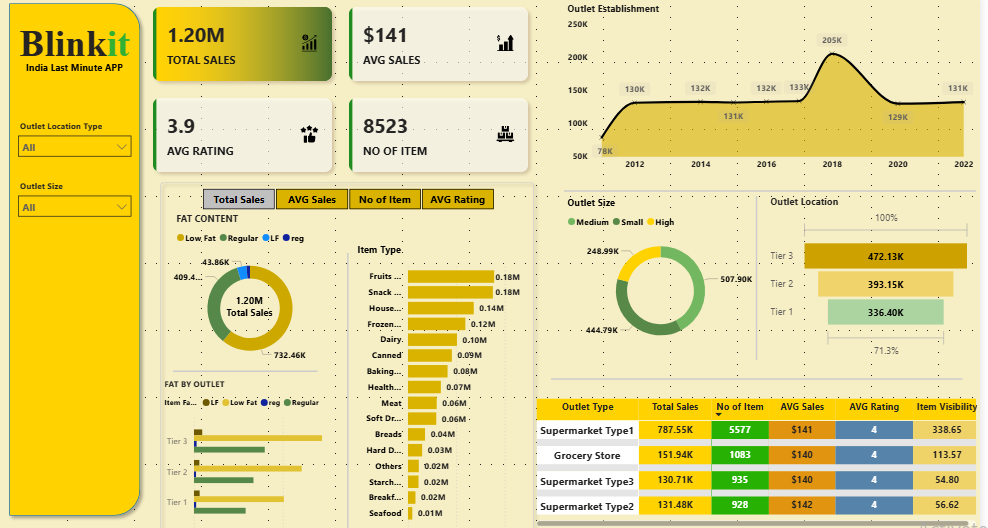

The dashboard page shown, as its layout file describes it:
{"tool":"powerbi","page":{"name":"Page 1","canvas":[1400,800],"ordinal":0},"visuals":[{"type":"shape","box":[3.8,2.8,205,750],"z":0},{"type":"textbox","box":[15.4,32.8,181.7,75],"z":2000},{"type":"textbox","box":[22.1,89.4,170,36.7],"z":3000},{"type":"cardVisual","fields":{"Data":["BlinkIT Grocery Data.Total Sales","BlinkIT Grocery Data.AVG","BlinkIT Grocery Data.AVG Rating","BlinkIT Grocery Data.No of Item"]},"box":[201.7,0,570,270],"z":4000},{"type":"shape","box":[220,258.3,551.7,530],"z":5000},{"type":"donutChart","title":"FAT CONTENT","fields":{"Y":["BlinkIT Grocery Data.Total Sales"],"Category":["BlinkIT Grocery Data.Item Fat Content"]},"box":[247,310,220,230],"z":6000},{"type":"slicer","fields":{"Values":["Matraix.Matraix"]},"box":[263.7,270,465,40],"z":7000},{"type":"cardVisual","fields":{"Data":["BlinkIT Grocery Data.Total Sales"]},"box":[301.7,400,110,88.3],"z":8000},{"type":"clusteredBarChart","title":"FAT BY OUTLET","fields":{"Y":["BlinkIT Grocery Data.Total Sales"],"Category":["BlinkIT Grocery Data.Outlet Location Type"],"Series":["BlinkIT Grocery Data.Item Fat Content"]},"box":[230,546.7,256.7,241.7],"z":9000},{"type":"shape","box":[247,510,206.7,55],"z":10000},{"type":"shape","box":[428.7,368.3,136.7,420],"z":11000},{"type":"barChart","title":"Item Type","fields":{"Y":["BlinkIT Grocery Data.Total Sales"],"Category":["BlinkIT Grocery Data.Item Type"]},"box":[505.3,355,256.7,433.3],"z":12000},{"type":"lineChart","title":"Outlet Establishment","fields":{"Category":["BlinkIT Grocery Data.Outlet Establishment Year"],"Y":["BlinkIT Grocery Data.Total Sales"]},"box":[805,10,590,250],"z":13000},{"type":"shape","box":[805.7,270,588.6,20],"z":14000},{"type":"donutChart","title":"Outlet Size","fields":{"Y":["BlinkIT Grocery Data.Total Sales"],"Category":["BlinkIT Grocery Data.Outlet Size"]},"box":[805.7,287.1,275.7,225.7],"z":15000},{"type":"shape","box":[1065.7,287.1,30,234.3],"z":16000},{"type":"shape","box":[786.7,538.3,588.3,20],"z":17000},{"type":"funnel","title":"Outlet Location","fields":{"Y":["Sum(BlinkIT Grocery Data.Sales)"],"Category":["BlinkIT Grocery Data.Outlet Location Type"]},"box":[1095.7,285.7,295.7,237.1],"z":18000},{"type":"pivotTable","fields":{"Rows":["BlinkIT Grocery Data.Outlet Type"],"Values":["BlinkIT Grocery Data.Total Sales","BlinkIT Grocery Data.No of Item","BlinkIT Grocery Data.AVG Sales","BlinkIT Grocery Data.AVG Rating","Sum(BlinkIT Grocery Data.Item Visibility)"]},"box":[761.7,571.7,638.3,193.3],"z":18001},{"type":"slicer","fields":{"Values":["BlinkIT Grocery Data.Outlet Location Type"]},"box":[15,173.3,181.7,85],"z":18002},{"type":"slicer","fields":{"Values":["BlinkIT Grocery Data.Outlet Size"]},"box":[15,258.3,181.7,85],"z":18003}]}

Visuals, with their boxes on the page's 1400x800 design canvas (x1, y1, x2, y2). These are canvas units, not pixel positions in the 988x528 screenshot, which may show the page scaled, cropped or inside an application window:
shape: [4, 3, 209, 753]
textbox: [15, 33, 197, 108]
textbox: [22, 89, 192, 126]
cardVisual - BlinkIT Grocery Data.Total Sales x BlinkIT Grocery Data.AVG: [202, 0, 772, 270]
shape: [220, 258, 772, 788]
"FAT CONTENT" donutChart: [247, 310, 467, 540]
slicer - Matraix.Matraix: [264, 270, 729, 310]
cardVisual - BlinkIT Grocery Data.Total Sales: [302, 400, 412, 488]
"FAT BY OUTLET" clusteredBarChart: [230, 547, 487, 788]
shape: [247, 510, 454, 565]
shape: [429, 368, 565, 788]
"Item Type" barChart: [505, 355, 762, 788]
"Outlet Establishment" lineChart: [805, 10, 1395, 260]
shape: [806, 270, 1394, 290]
"Outlet Size" donutChart: [806, 287, 1081, 513]
shape: [1066, 287, 1096, 521]
shape: [787, 538, 1375, 558]
"Outlet Location" funnel: [1096, 286, 1391, 523]
pivotTable - BlinkIT Grocery Data.Outlet Type x BlinkIT Grocery Data.Total Sales: [762, 572, 1400, 765]
slicer - BlinkIT Grocery Data.Outlet Location Type: [15, 173, 197, 258]
slicer - BlinkIT Grocery Data.Outlet Size: [15, 258, 197, 343]
